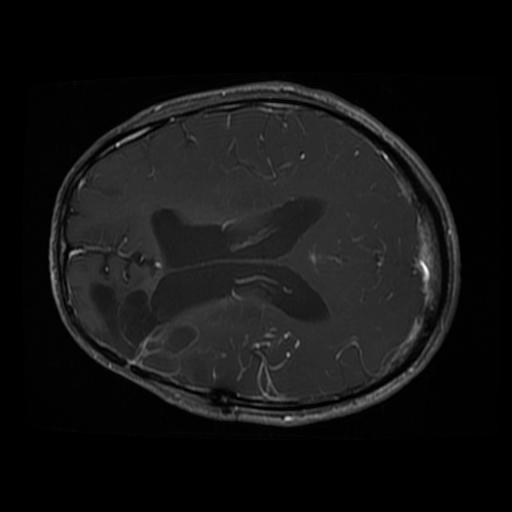glioma: (88, 279, 201, 379)
